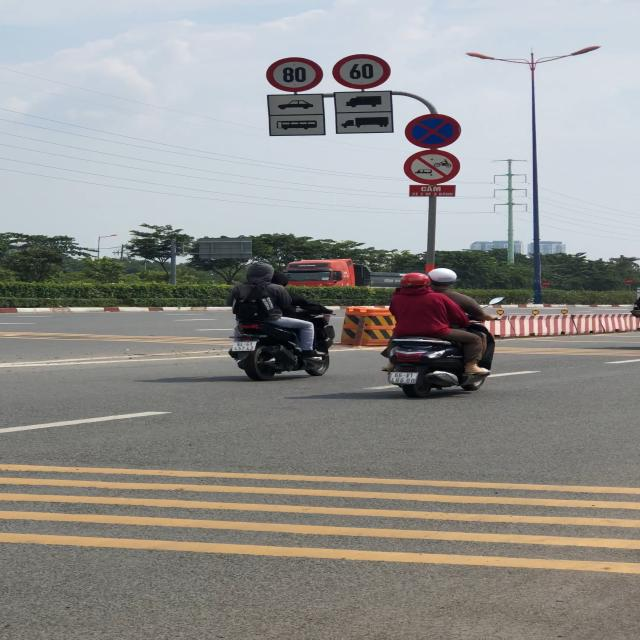Bien bao cam dung xe va do xe: (405, 114, 464, 149)
Bien bao toc do toi da cho phep: (330, 52, 392, 89), (266, 56, 326, 92)
